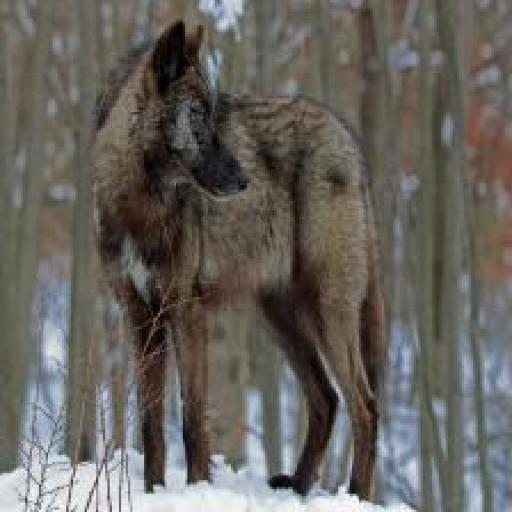wolf: (82, 11, 420, 512)
